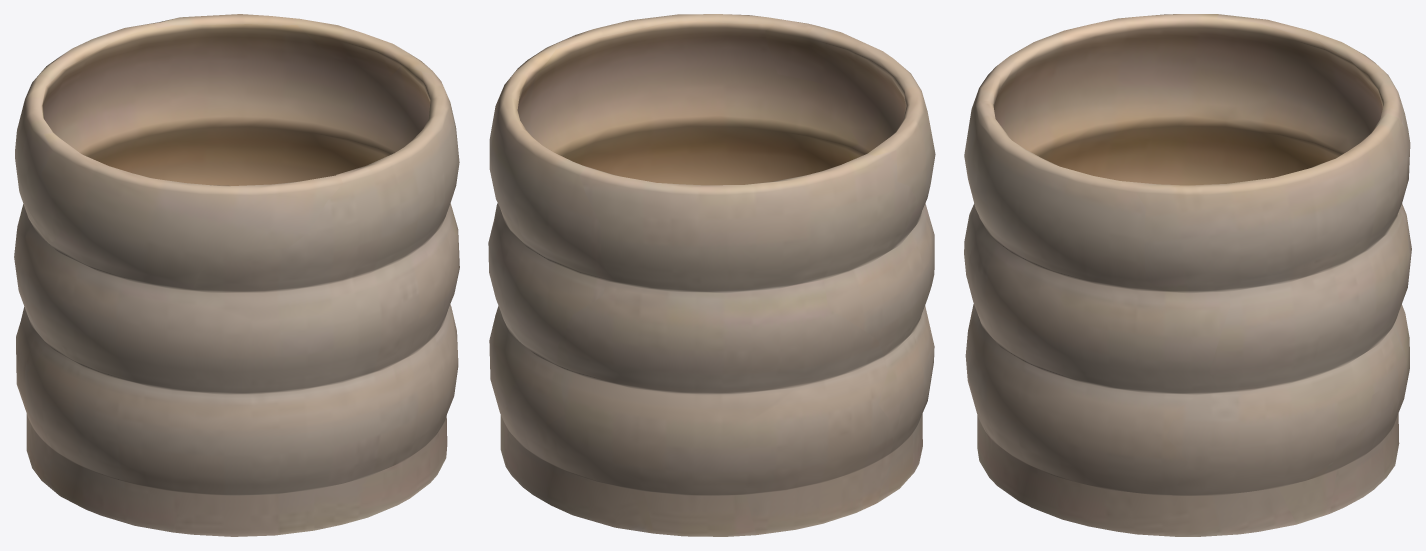
The model's file is 23 - HASSELBUKETT Plant pot - inoutdoorbeige 19 cm.glb.
3 renders of one model, left to right at view 1: azimuth 30°, elevation 25°; view 2: azimuth 150°, elevation 25°; view 3: azimuth 270°, elevation 25°, orthographic.
Visible parts, largest first — view 1: ASY_ART_40621823_S01_NV01; view 2: ASY_ART_40621823_S01_NV01; view 3: ASY_ART_40621823_S01_NV01.
Part boxes in pixels (box(x1,y1,x2,y2)): ASY_ART_40621823_S01_NV01: box(14, 14, 459, 536); ASY_ART_40621823_S01_NV01: box(488, 14, 935, 536); ASY_ART_40621823_S01_NV01: box(964, 14, 1411, 536).
Bounding box in the file's own units: 0.2454 × 0.2096 × 0.2448.
1 material, 1 textured.
